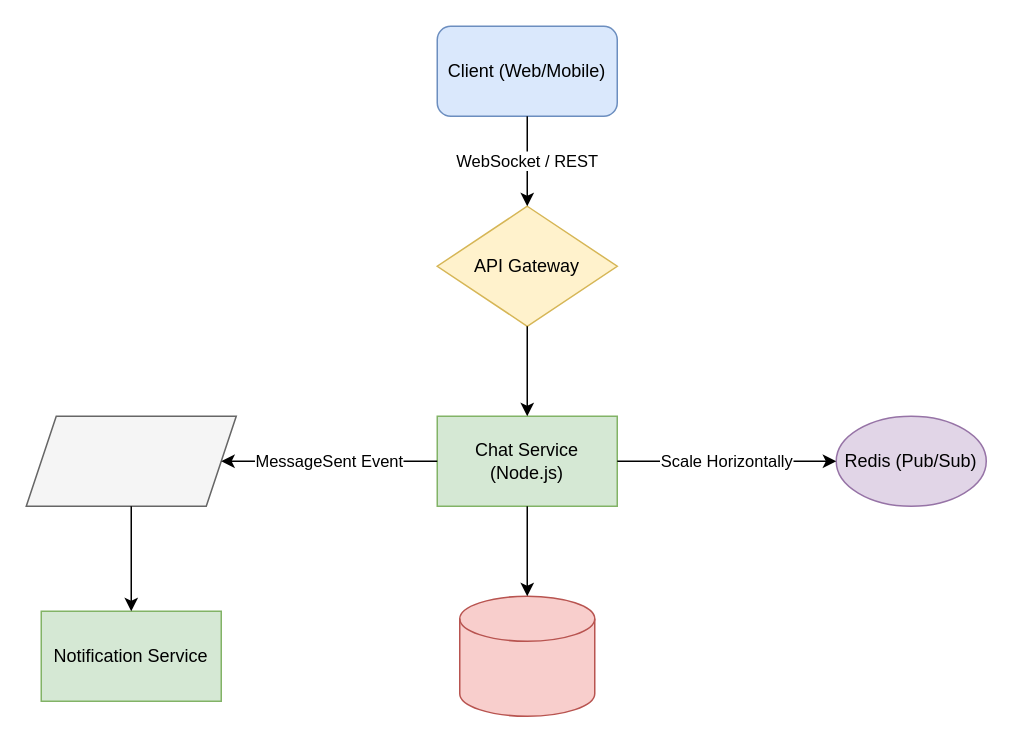
The diagram is 1013 pixels wide and 743 high, and some of its shapes have lost their labels. Each missing label, with the centre of its shape:
"Kafka / Message Bus" belongs at point (130, 460).
"MongoDB (Messages)" belongs at point (526, 655).
